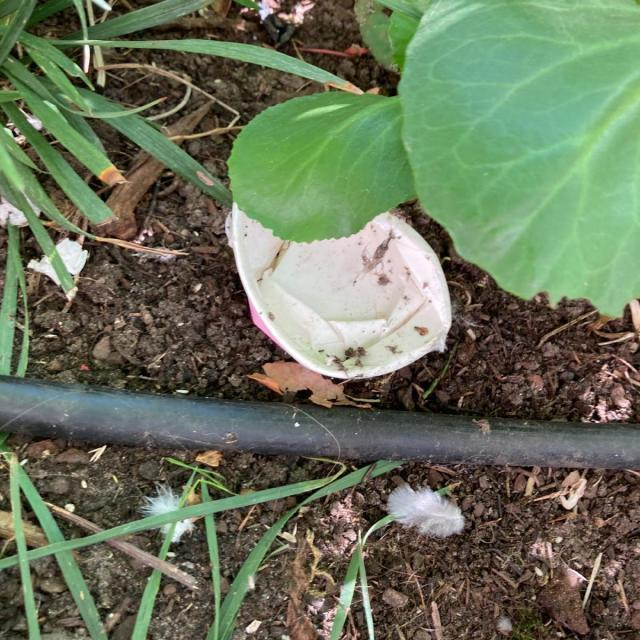Paper: (223, 194, 454, 384)
